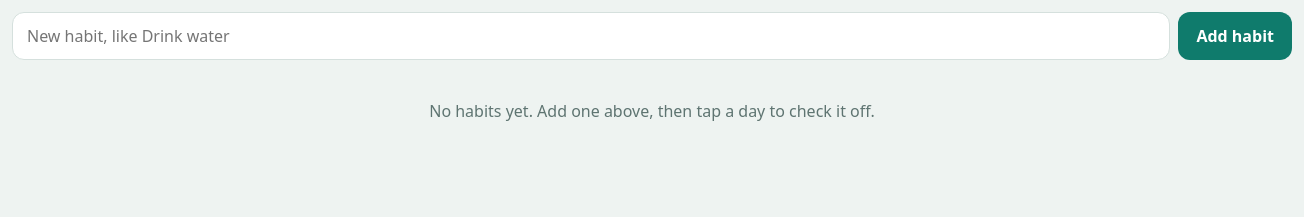
Test: HabitTracker › HAB-08: deletes a habit
The width and height of the screenshot is (1304, 217).
Type "Read" into the field labelled "New habit". click: (591, 36)
box: left=12, top=12, right=1170, bottom=60
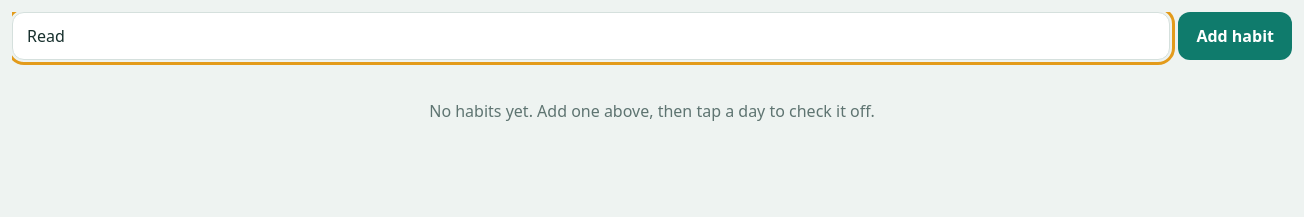
Click the button "Add habit". click: (1235, 36)
box: left=1178, top=12, right=1292, bottom=60
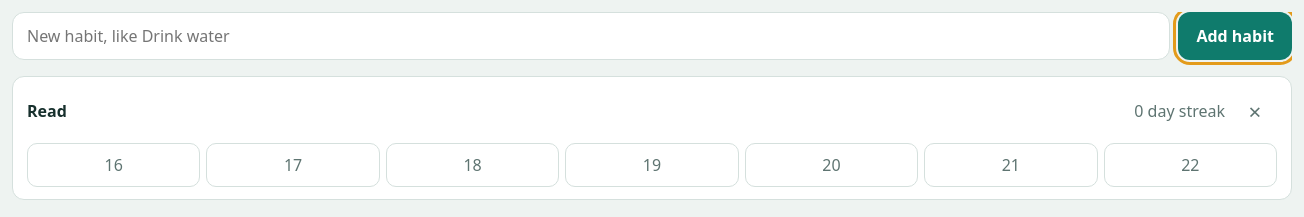
Click the button named "Delete Read". click: (1255, 111)
box: left=1233, top=89, right=1277, bottom=133
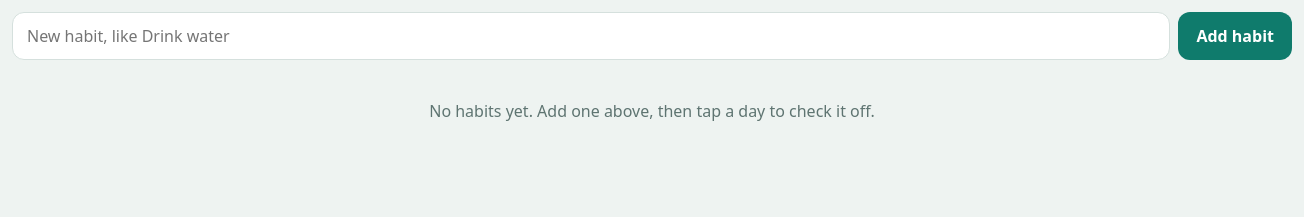
Result: the text "Read" is gone
